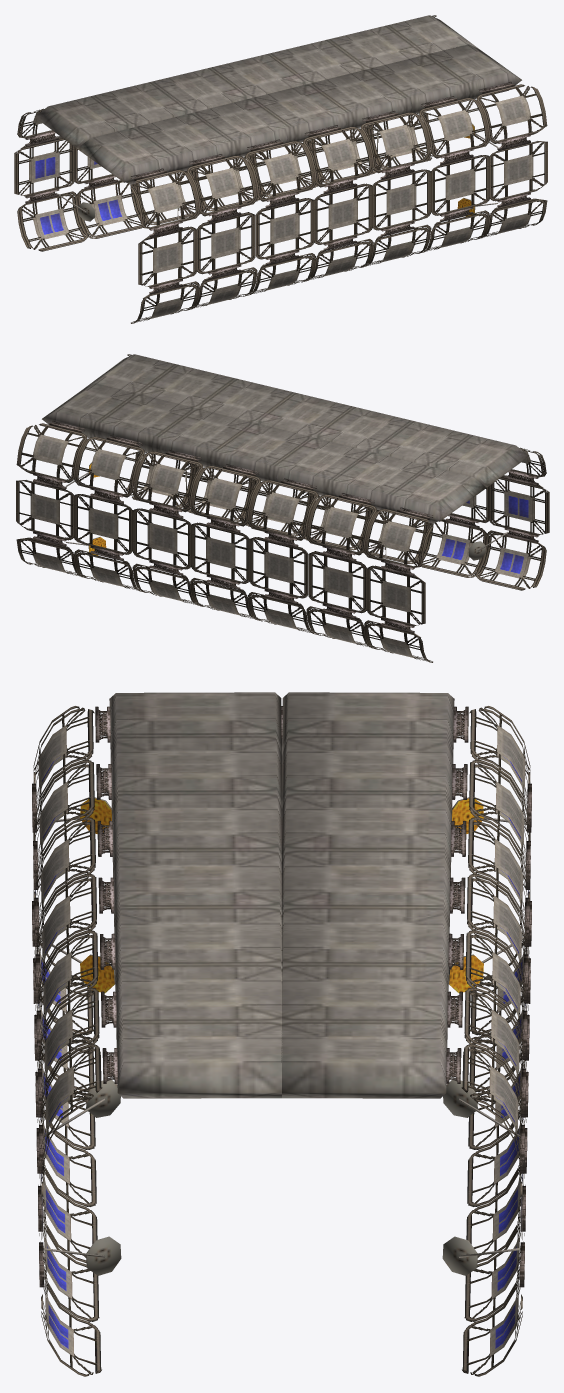
File: shipyard.fbx
The picture shows the model from 3 angles, top to bottom: view 1: azimuth 30°, elevation 25°; view 2: azimuth 150°, elevation 25°; view 3: azimuth 270°, elevation 25°; orthographic projection. The views are drawn at different scales.
Parts seen in each view (by area): view 1: Regroup01; view 2: Regroup01; view 3: Regroup01.
Boxes of the visible parts, x1,y1,x2,y2 form: Regroup01: [14, 15, 547, 323]; Regroup01: [16, 354, 549, 662]; Regroup01: [32, 692, 531, 1376].
Size of the model in its own units: 30.72 by 10.77 by 16.08.
Materials: 1 (1 with a texture image).
